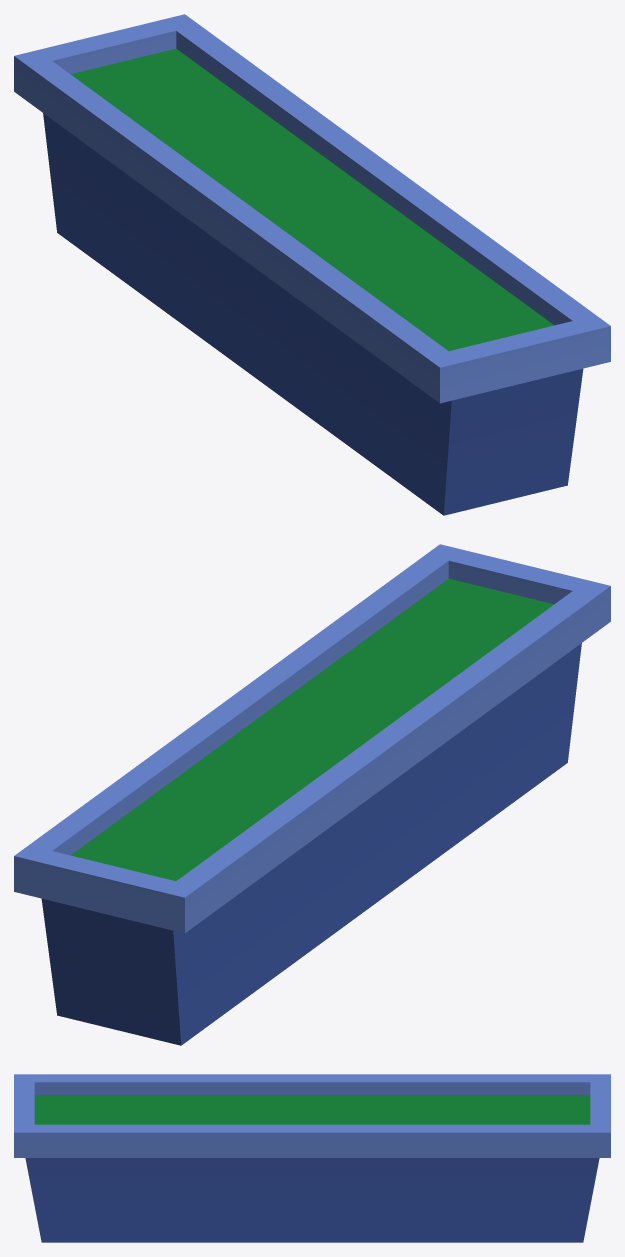
File: FlowerPot_5_1_E.glb
3 views of the same model, one above another, from view 1: azimuth 30°, elevation 25°; view 2: azimuth 150°, elevation 25°; view 3: azimuth 270°, elevation 25° (orthographic). The views are drawn at different scales.
Visible parts, largest first — view 1: FlowerPot_5_1_E; view 2: FlowerPot_5_1_E; view 3: FlowerPot_5_1_E.
Boxes of the visible parts, x1,y1,x2,y2 form: FlowerPot_5_1_E: (14, 14, 610, 515); FlowerPot_5_1_E: (14, 544, 610, 1045); FlowerPot_5_1_E: (14, 1074, 610, 1242).
Size of the model in its own units: 0.3246 by 0.3052 by 1.4.
Materials: 1 (1 with a texture image).
